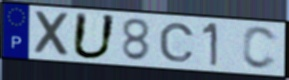1: (201, 22, 219, 69)
8: (120, 17, 152, 63)
C: (240, 25, 279, 72), (157, 22, 197, 64)
U: (70, 11, 119, 62)
X: (33, 9, 72, 58)
